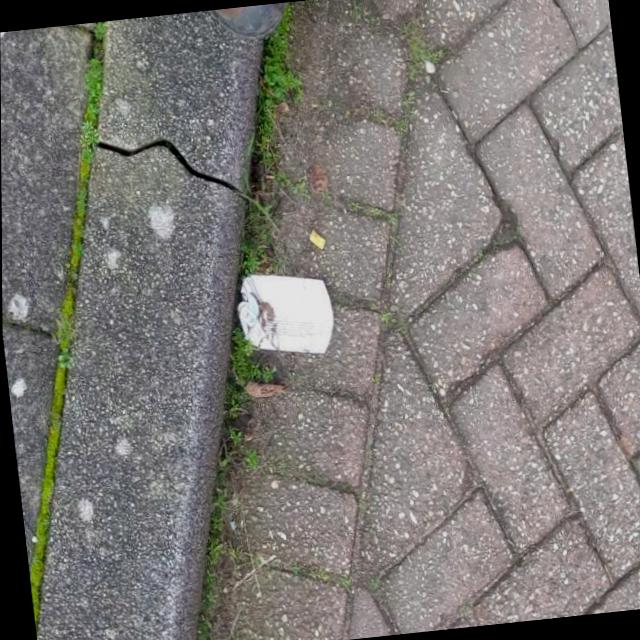Can-Metal: (231, 260, 349, 365)
